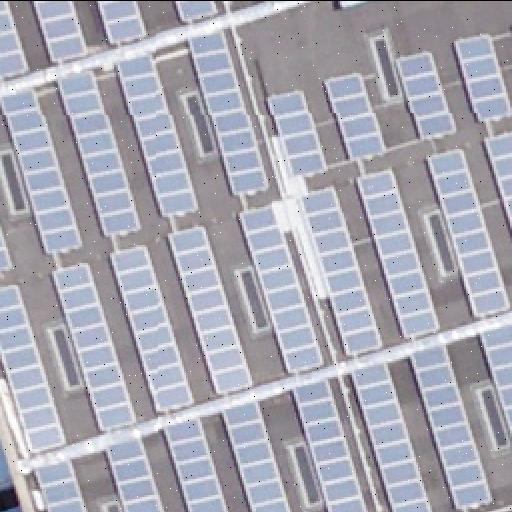solar-panel: (236, 198, 324, 374), (354, 165, 442, 339), (169, 222, 255, 394), (49, 258, 135, 430), (424, 146, 512, 314), (109, 239, 195, 409), (298, 183, 382, 353), (113, 49, 199, 215), (57, 69, 143, 235), (408, 342, 492, 510), (0, 84, 80, 252), (189, 26, 267, 194), (350, 360, 434, 512), (0, 282, 64, 450), (291, 376, 365, 512), (218, 393, 294, 511), (162, 416, 230, 512), (395, 45, 461, 139), (322, 68, 386, 160), (454, 26, 512, 122), (267, 84, 325, 176), (106, 433, 166, 511), (480, 323, 512, 437), (32, 1, 88, 63), (32, 454, 88, 512), (481, 129, 511, 231), (96, 0, 148, 44), (1, 0, 31, 76), (171, 0, 213, 24), (0, 217, 16, 271)
